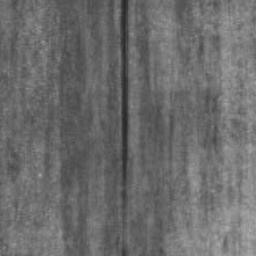Scratches: (119, 0, 128, 218)
